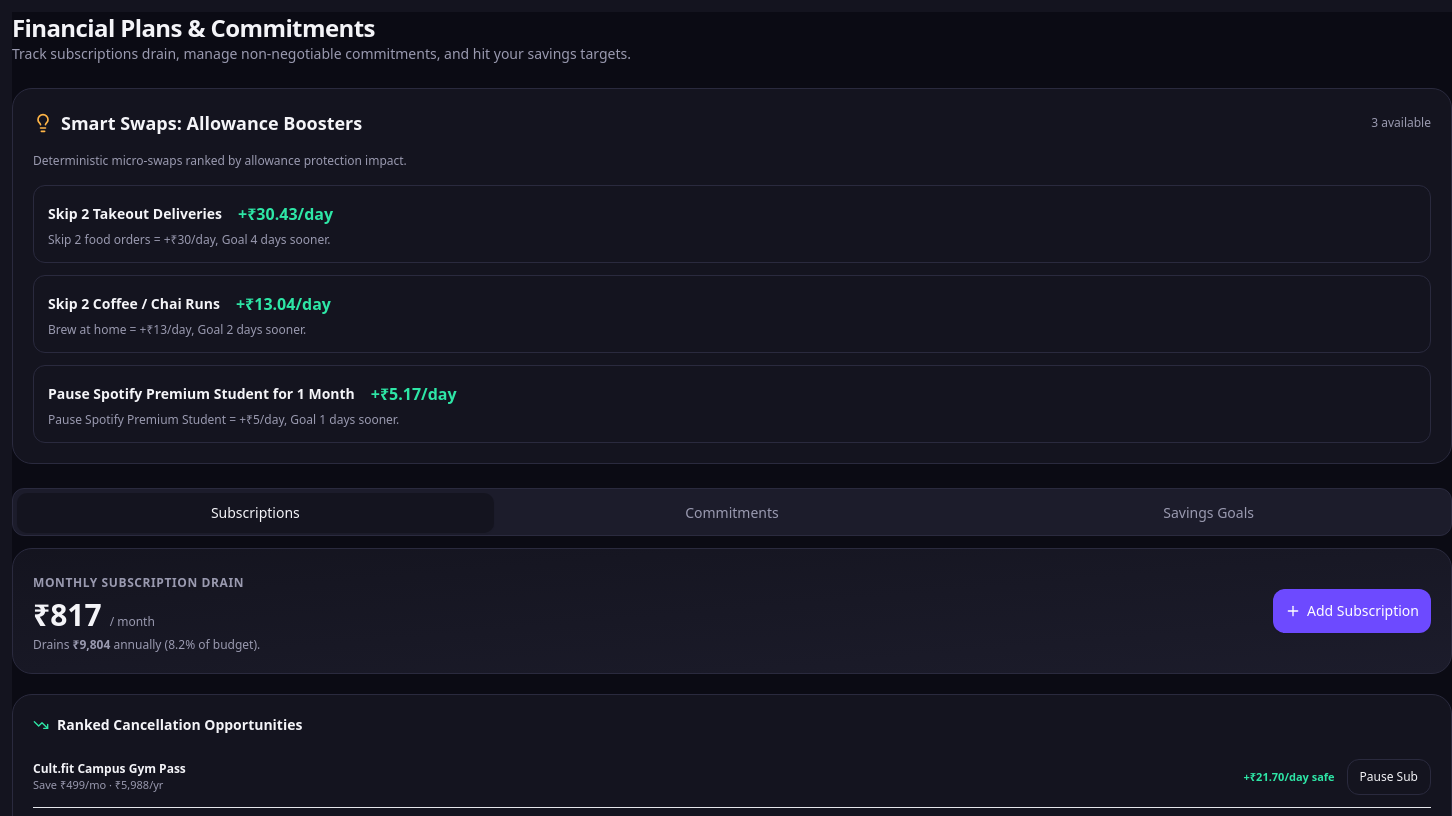
PlansView Component (Commitments, Subscriptions, Goals) › renders commitments tab and toggles early payment on a commitment
This screenshot has width=1452, height=816.
Click the tab "Commitments". click: (732, 513)
box: [494,493,970,533]
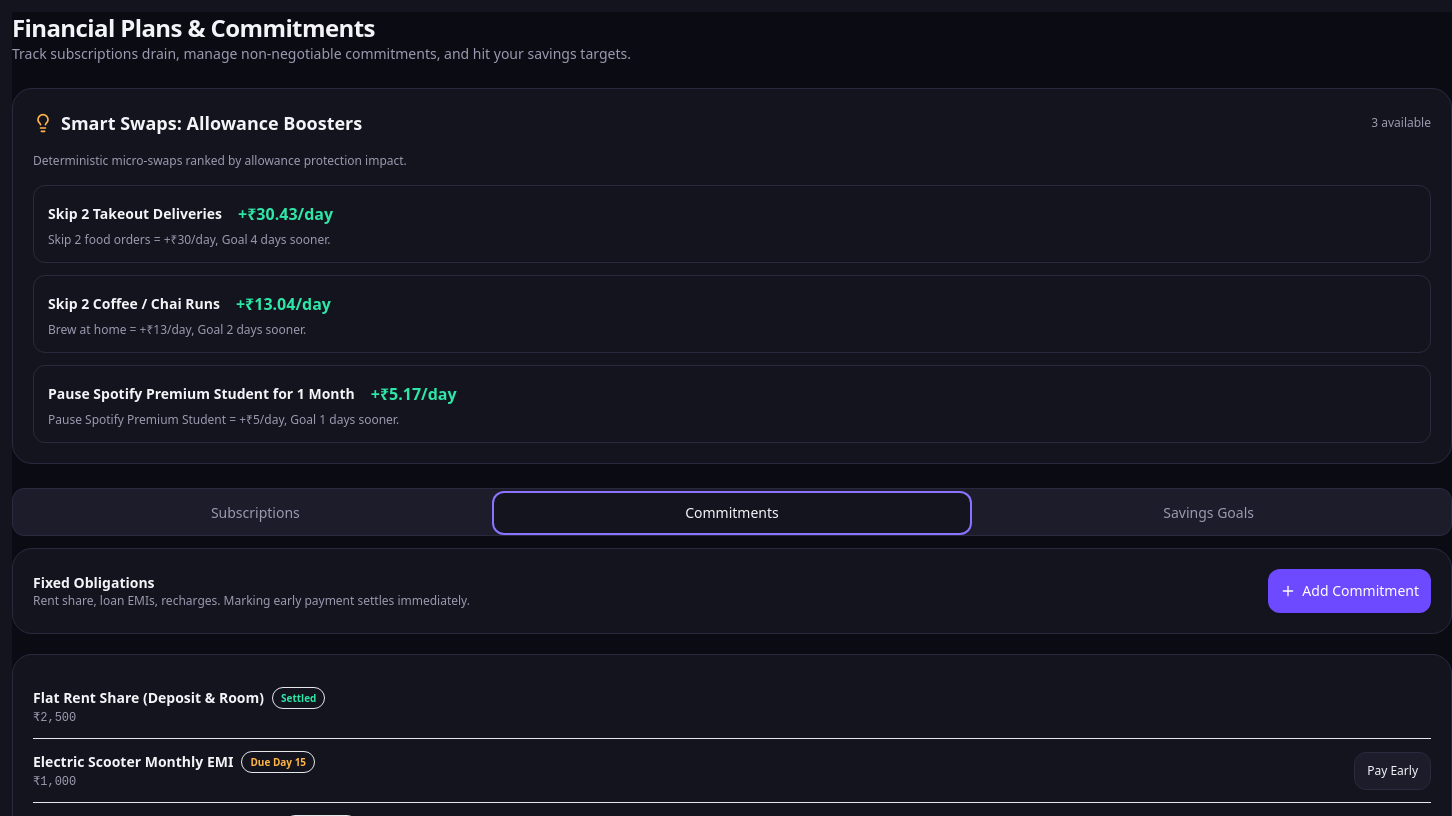
expect the heading "Fixed Obligations" is shown: met, box [33,573,155,592]
Click the button "Pay Early" in the row of "15". click: (1393, 770)
box: [1354,752,1431,790]
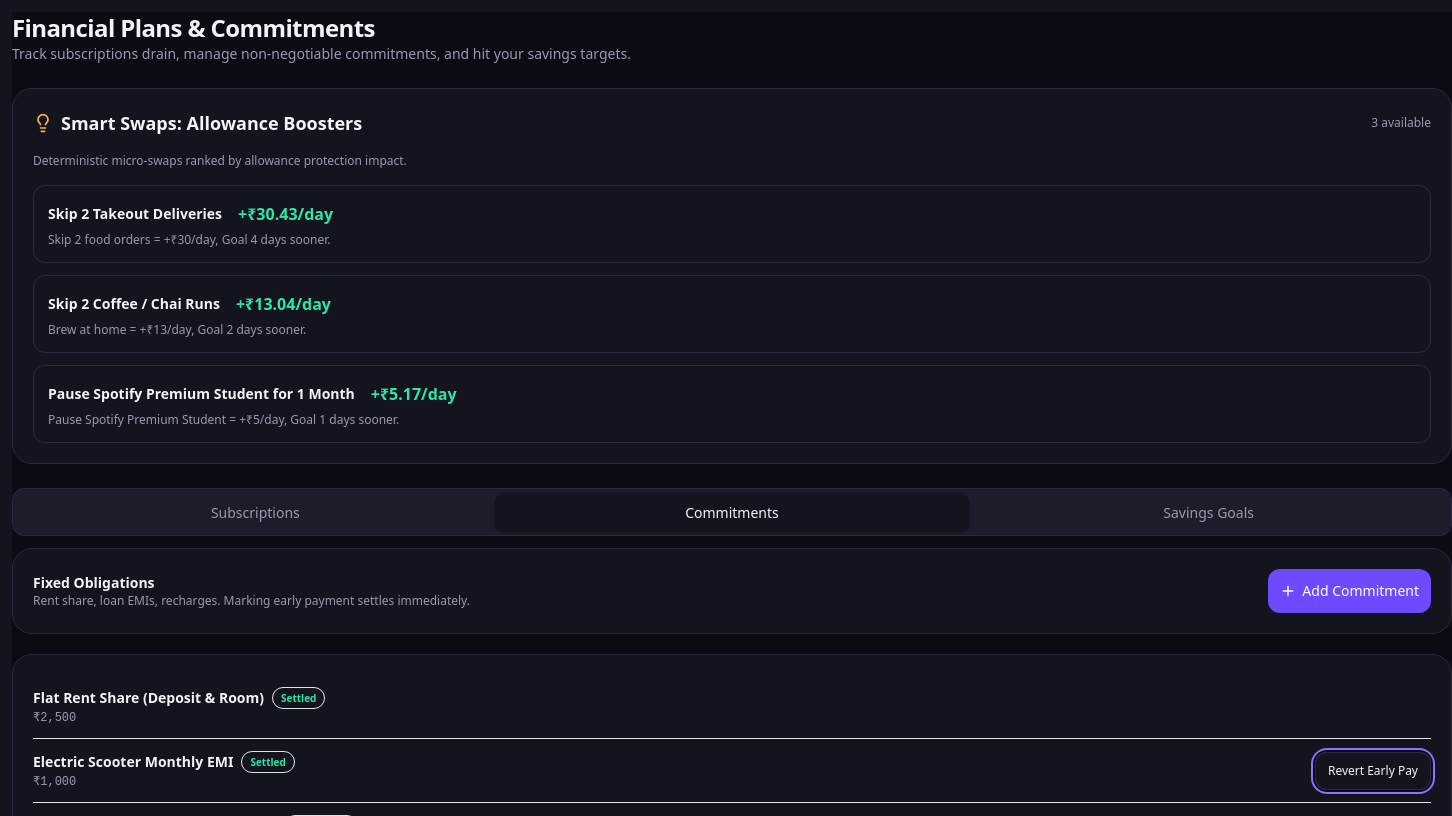
expect the button "Revert Early Pay" is shown: met, box [1315,752,1431,790]
